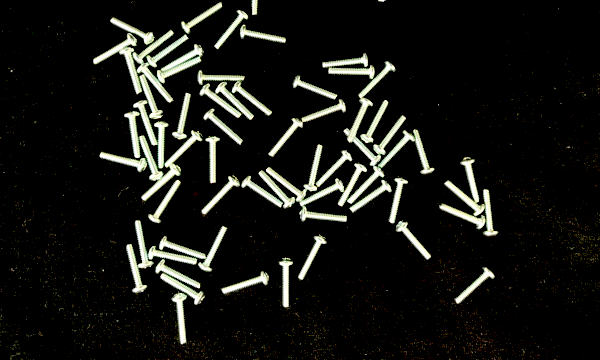longscrew: (202, 108, 246, 148), (443, 177, 485, 218), (200, 175, 242, 216), (163, 129, 206, 169), (454, 266, 498, 305), (215, 81, 256, 122), (136, 62, 176, 104), (395, 218, 434, 261), (198, 83, 242, 121), (148, 178, 183, 225), (346, 166, 387, 206), (375, 131, 417, 170), (140, 164, 183, 202), (264, 165, 307, 203), (231, 80, 274, 118), (146, 32, 191, 68), (342, 127, 382, 167), (257, 169, 296, 210), (159, 272, 206, 306), (357, 61, 399, 99), (197, 225, 230, 273), (241, 173, 285, 209), (132, 29, 176, 65), (180, 0, 225, 35), (438, 200, 487, 232), (297, 233, 329, 282), (267, 118, 306, 158), (213, 9, 250, 51), (92, 33, 139, 66), (349, 179, 393, 214), (372, 115, 409, 156), (155, 259, 203, 290), (314, 150, 353, 188), (336, 162, 368, 208), (360, 98, 391, 145), (108, 15, 155, 46), (297, 179, 346, 208), (158, 44, 206, 73), (346, 97, 375, 144), (133, 99, 160, 148), (158, 235, 207, 261), (118, 46, 144, 95), (125, 241, 149, 294), (138, 74, 165, 121), (221, 270, 271, 295), (138, 134, 164, 182), (156, 57, 204, 83), (292, 74, 339, 100), (412, 127, 436, 177), (98, 149, 148, 173), (133, 219, 156, 270), (300, 99, 348, 123), (387, 175, 410, 225), (459, 156, 482, 205), (148, 245, 198, 267), (303, 143, 325, 193), (239, 24, 289, 46), (172, 91, 194, 141), (170, 292, 190, 346), (299, 205, 349, 225), (123, 109, 143, 159), (482, 186, 500, 240), (278, 256, 295, 309), (196, 69, 246, 87), (204, 133, 221, 185), (325, 63, 377, 79), (153, 120, 169, 172), (321, 52, 372, 68), (248, 0, 265, 18), (374, 0, 397, 4)
